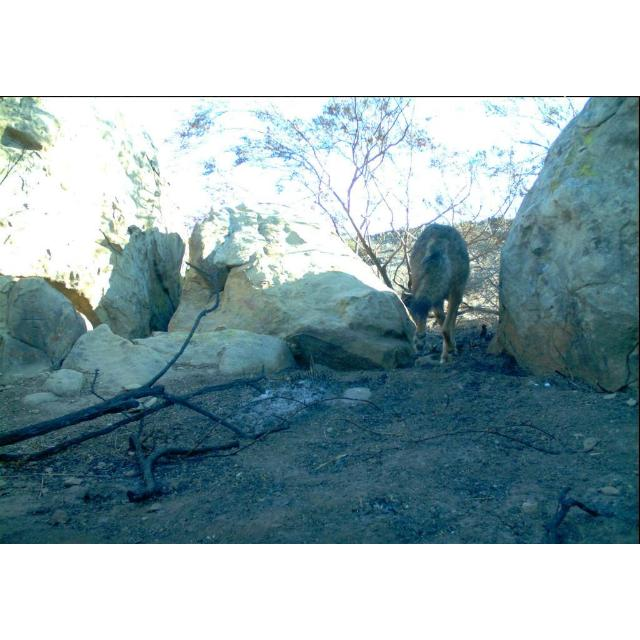animals: (401, 220, 472, 362)
